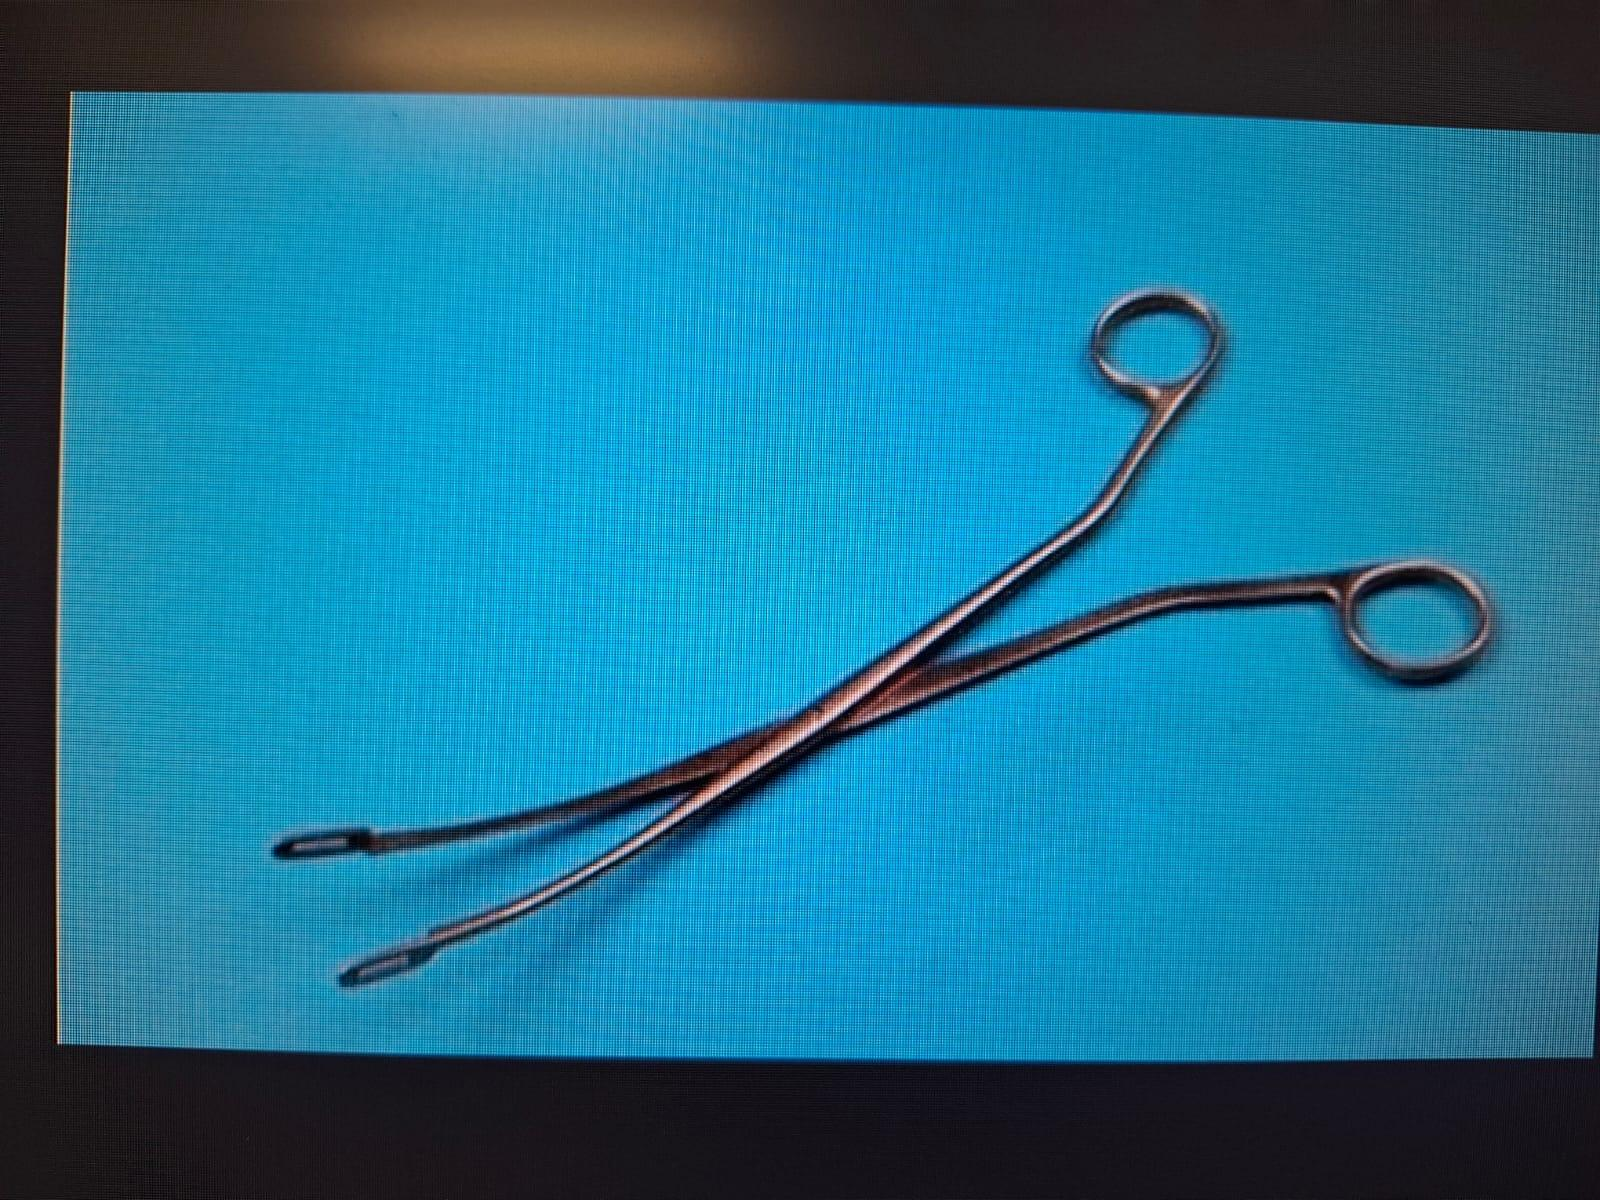Desjardin Forceps: (252, 262, 1516, 1018)
